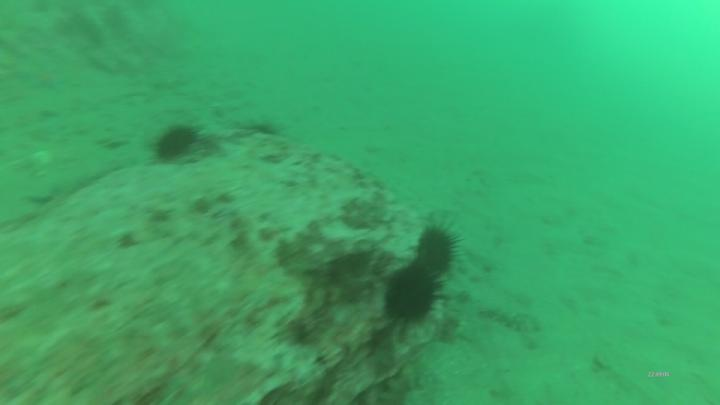echinus: (384, 264, 442, 326), (415, 224, 463, 276), (151, 122, 204, 165)
holothurian: (477, 303, 543, 339)
